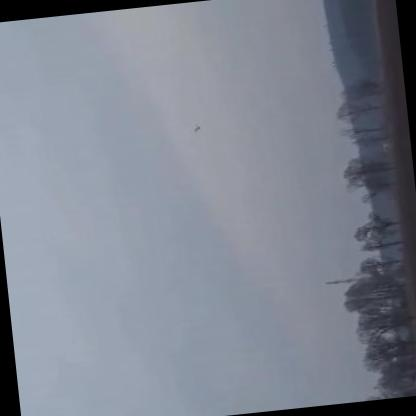plane: (189, 120, 204, 134)
